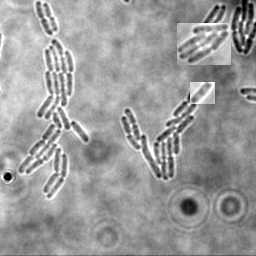Dividing: (34, 1, 52, 37), (41, 3, 57, 33)
Microcolony: (18, 40, 89, 199), (120, 87, 197, 181), (177, 23, 231, 65), (230, 1, 255, 56)
Rod: (190, 82, 215, 104)
